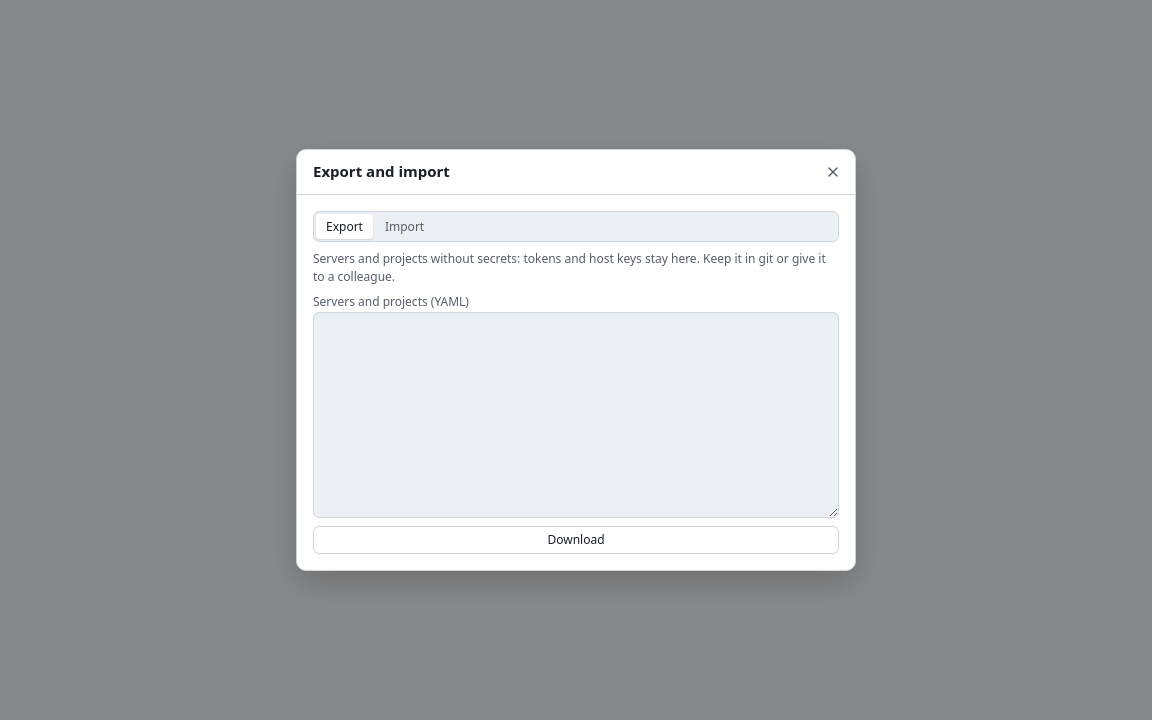
ConfigDialog › shows why a file was rejected
The image size is (1152, 720).
Click the radio button labelled "Import". click: coordinates (405, 226)
box: [375,214,434,239]
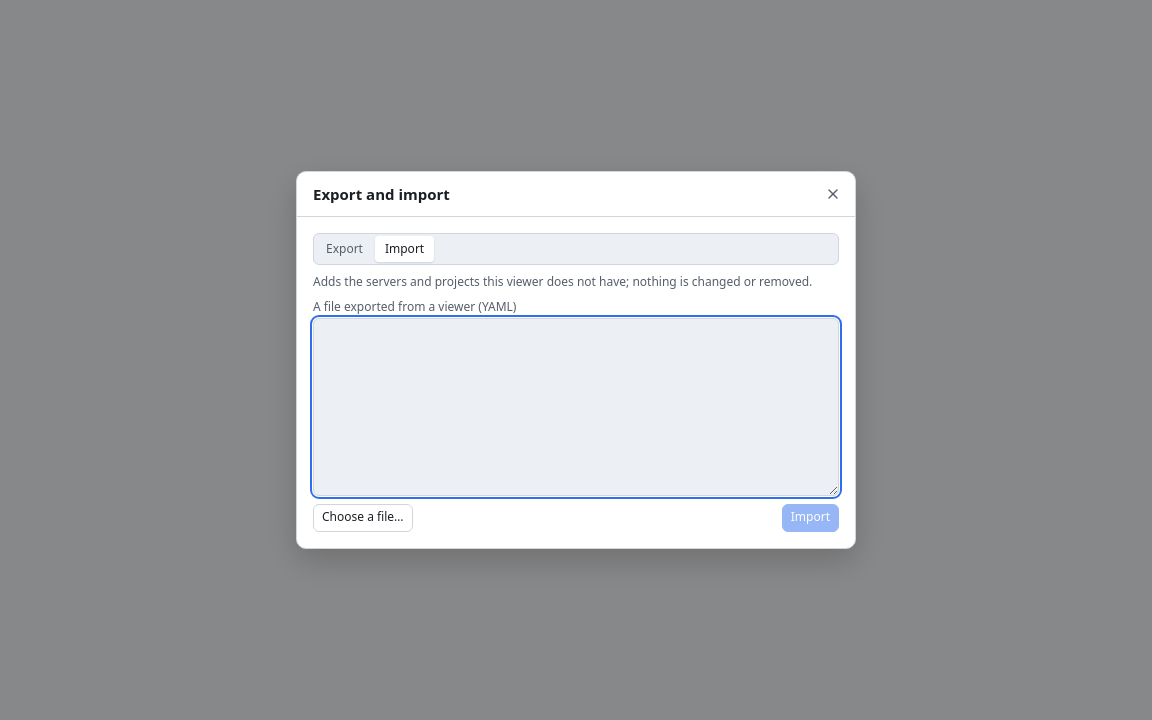
Type "x" into the text box labelled "A file exported from a viewer (YAML)". click: coordinates (576, 407)
box: [313,318,839,496]
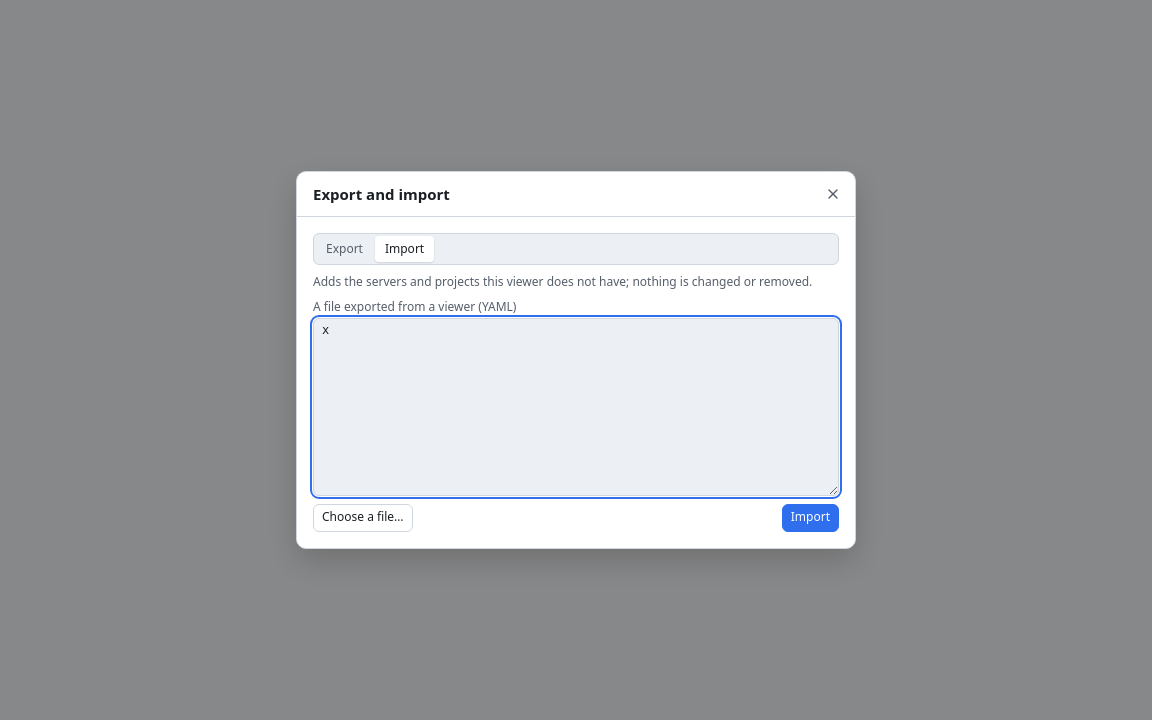
Click the button "Import". click: coordinates (810, 518)
box: [782,504,839,532]
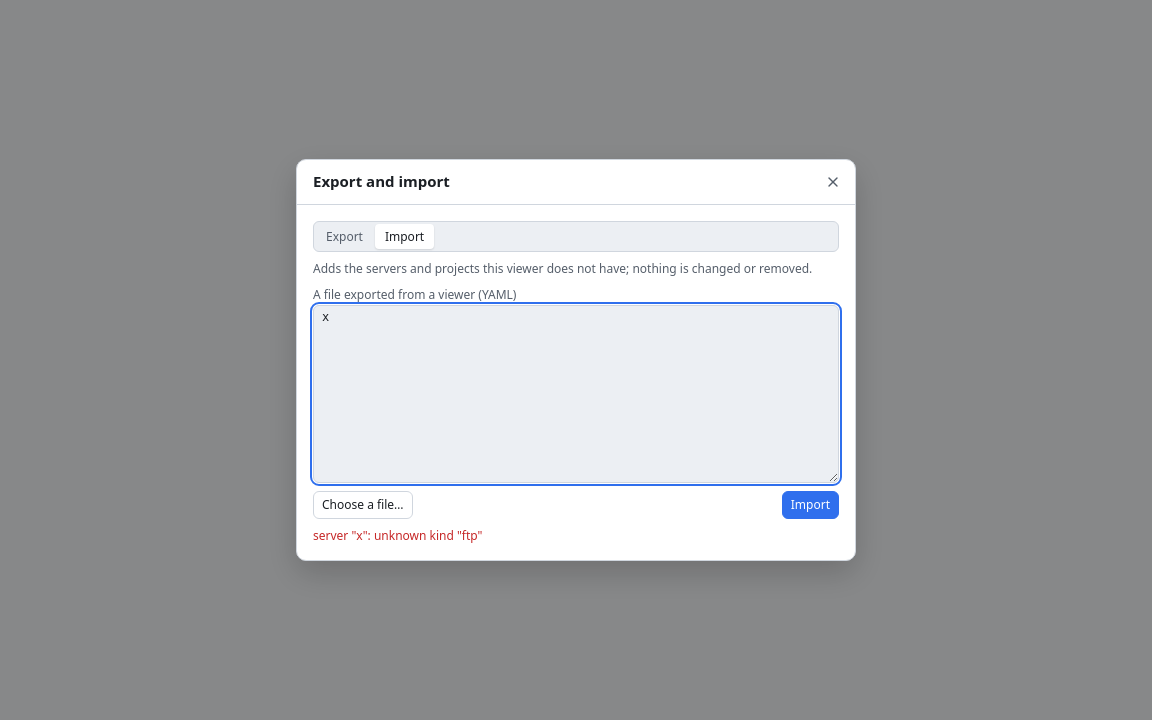
Check: the message shows "unknown kind \"ftp\"", box [313,527,482,544]
